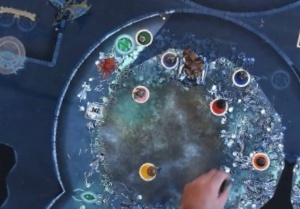blue: (227, 64, 255, 90)
green: (133, 25, 158, 50)
orange: (248, 149, 272, 172)
pink: (129, 81, 152, 104)
red: (208, 94, 233, 119)
violet: (158, 48, 181, 71)
yellow: (133, 158, 161, 184)
